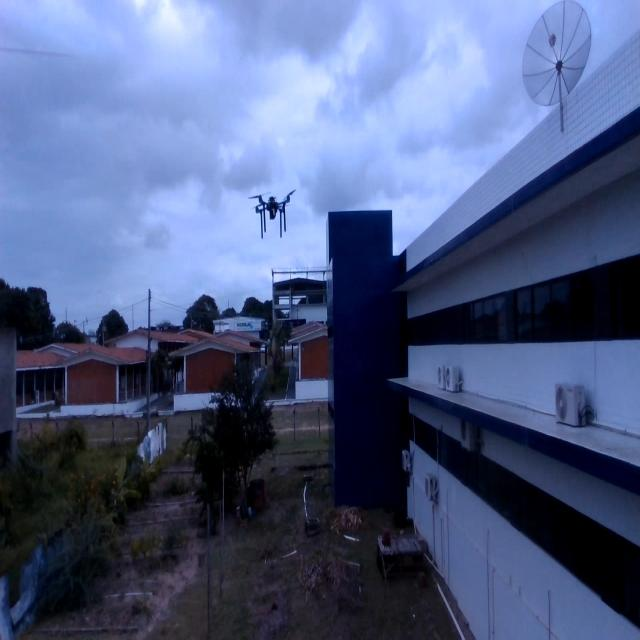-uav-: (241, 182, 301, 248)
